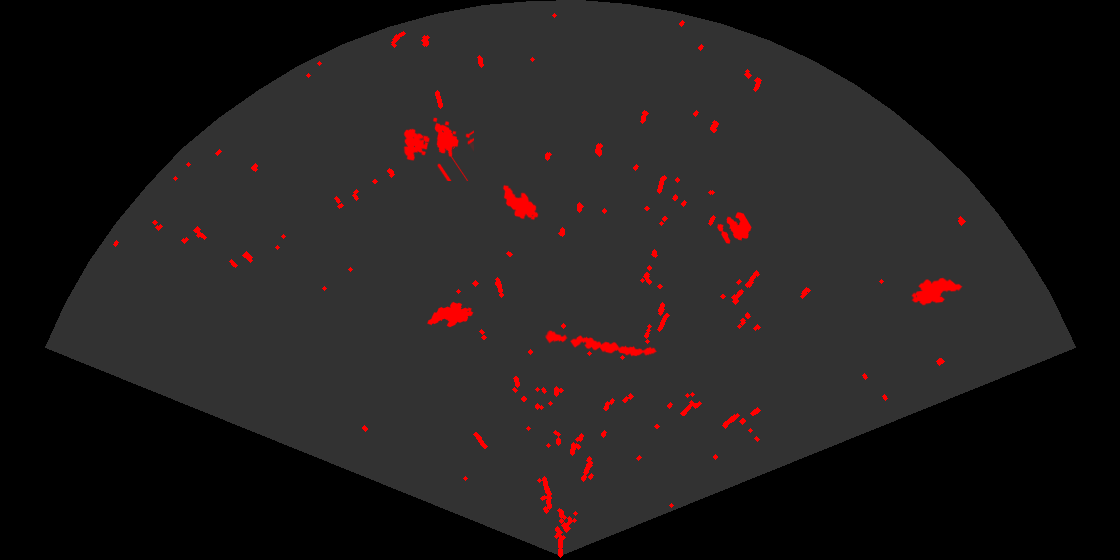AUV: (910, 276, 964, 307), (501, 183, 540, 222), (426, 300, 475, 329)
ball: (716, 211, 753, 245)
cage: (402, 116, 474, 181)
chain: (543, 329, 658, 358)
